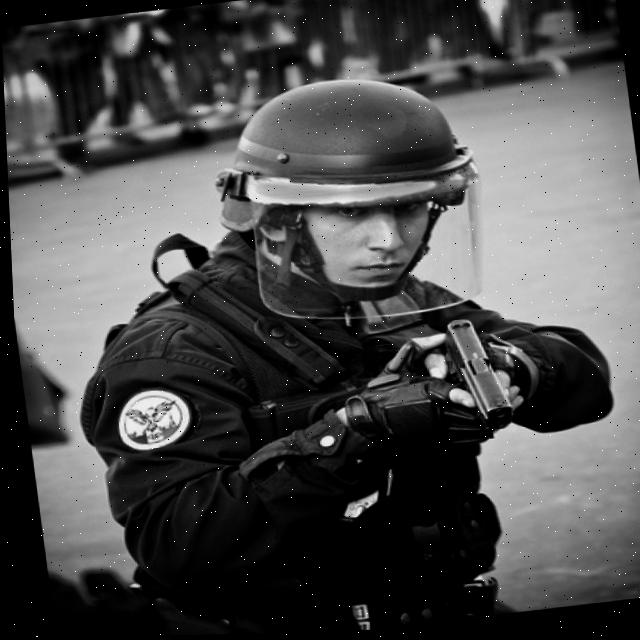pistol: (441, 317, 511, 432)
